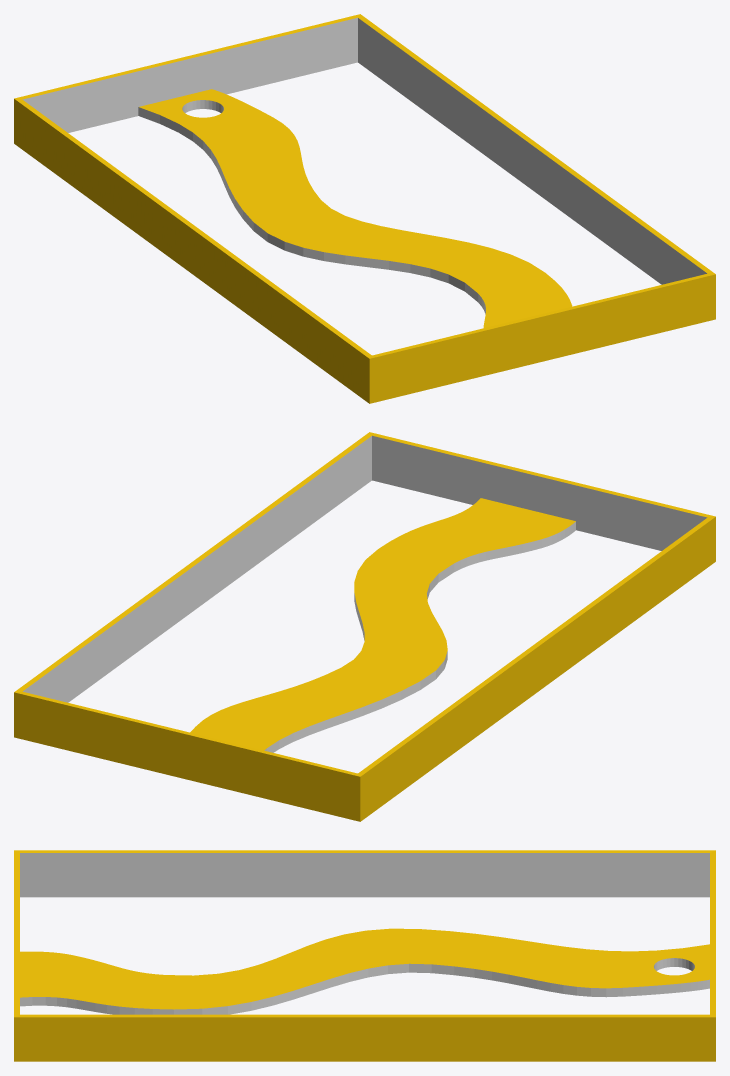
Rendered from floor.fbx.
The picture shows the model from 3 angles, top to bottom: view 1: azimuth 30°, elevation 25°; view 2: azimuth 150°, elevation 25°; view 3: azimuth 270°, elevation 25°; orthographic projection.
Visible parts, largest first — view 1: Curve; view 2: Curve; view 3: Curve.
Boxes of the visible parts, left/top/right/bottom form: Curve: left=14, top=14, right=715, bottom=403; Curve: left=14, top=432, right=715, bottom=821; Curve: left=14, top=850, right=715, bottom=1061.
Bounding box in the file's own units: 900 × 112 × 1600.
